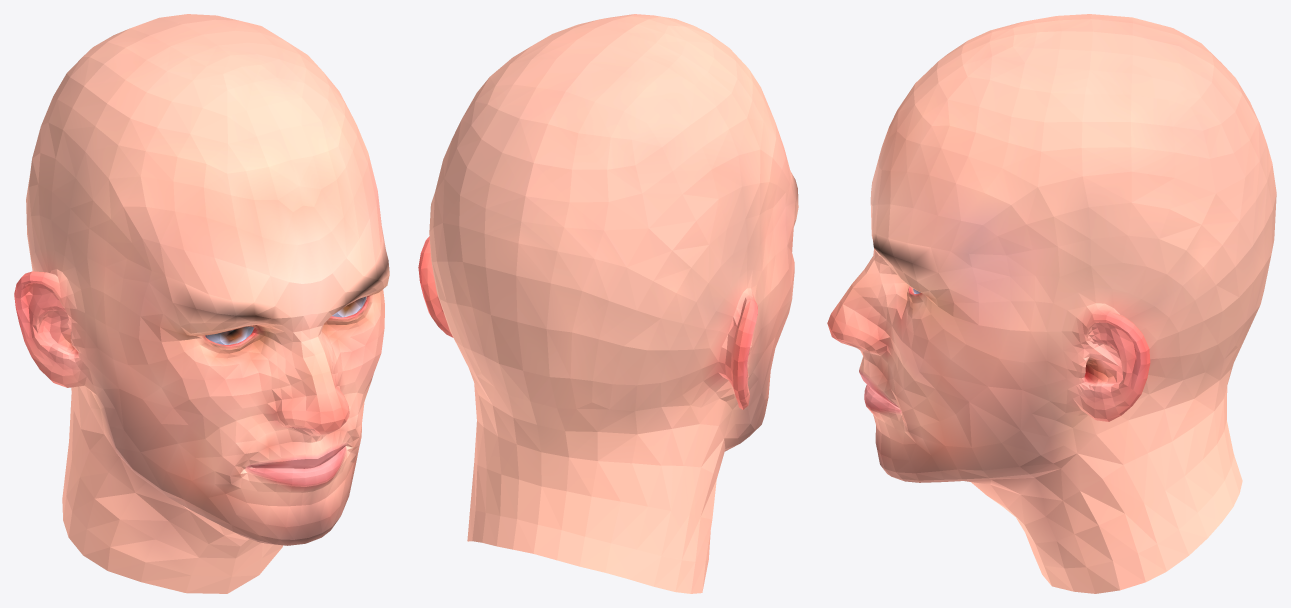
File: male_head_faceted.glb
3 renders of one model, left to right at view 1: azimuth 30°, elevation 25°; view 2: azimuth 150°, elevation 25°; view 3: azimuth 270°, elevation 25°, orthographic.
Parts seen in each view (by area): view 1: BaseHead_Male_Faceted_defaultMat_0; view 2: BaseHead_Male_Faceted_defaultMat_0; view 3: BaseHead_Male_Faceted_defaultMat_0.
Part boxes in pixels (x1,y1,x2,y2): BaseHead_Male_Faceted_defaultMat_0: [14, 14, 389, 593]; BaseHead_Male_Faceted_defaultMat_0: [418, 14, 798, 593]; BaseHead_Male_Faceted_defaultMat_0: [827, 14, 1276, 593].
Size of the model in its own units: 19.56 by 30.96 by 23.2.
Materials: 1 (1 with a texture image).
